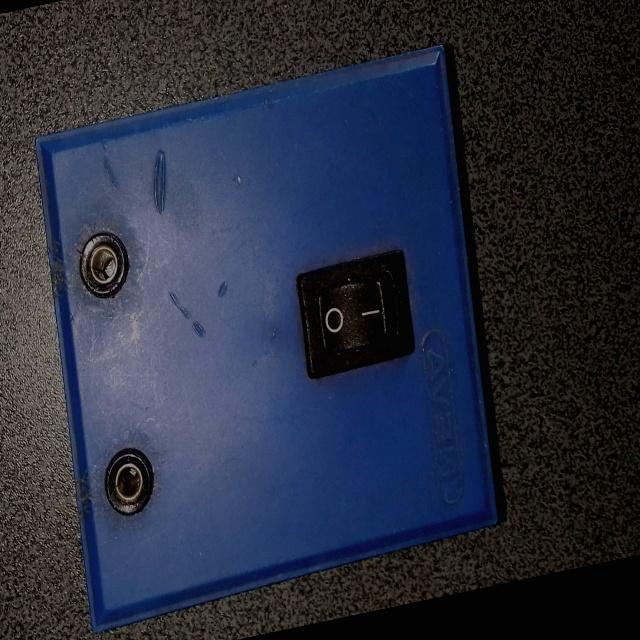ON-OFF Switch: (11, 11, 527, 640)
